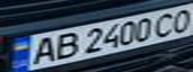0: (133, 15, 157, 43), (118, 18, 139, 46)
2: (81, 25, 106, 55)
4: (103, 20, 124, 50)
A: (24, 34, 60, 65)
B: (48, 29, 81, 61)
C: (151, 10, 181, 37)
O: (169, 6, 193, 34)
